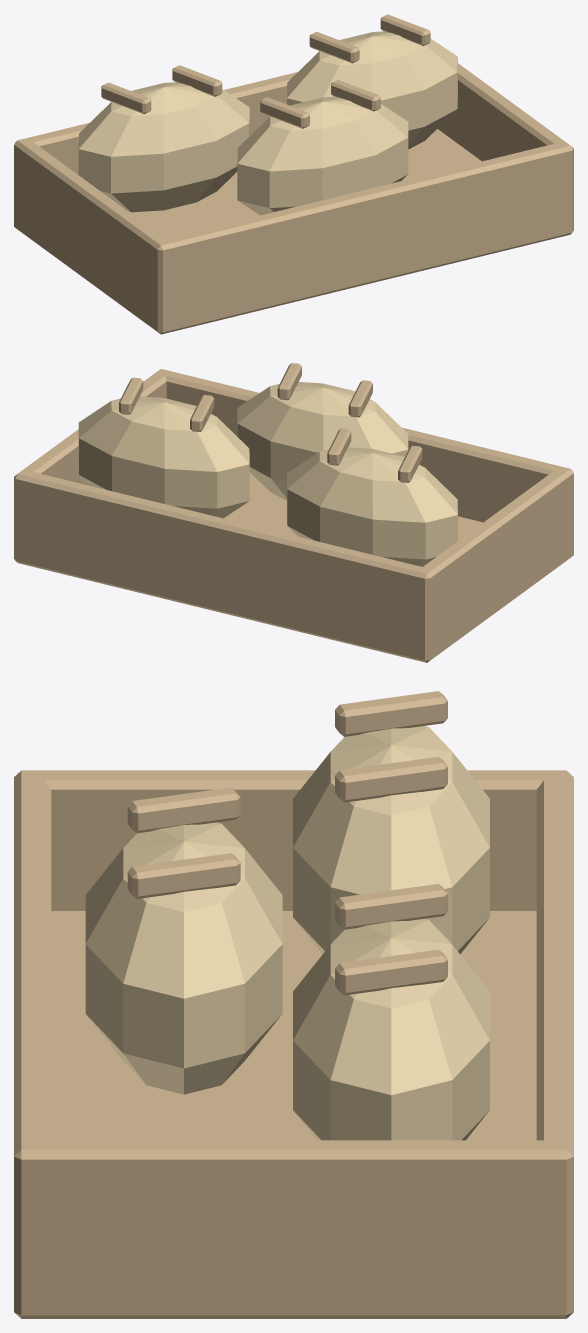
File: bread_display_basket.glb
3 views of the same model, one above another, from view 1: azimuth 30°, elevation 25°; view 2: azimuth 150°, elevation 25°; view 3: azimuth 270°, elevation 25° (orthographic). The views are drawn at different scales.
Visible parts, largest first — view 1: bread_loaf (×3), basket_wall (×2), basket_side (×2), basket_floor, loaf_score (×6); view 2: basket_wall (×2), bread_loaf (×3), basket_side (×2), basket_floor, loaf_score (×6); view 3: basket_side (×2), bread_loaf (×3), basket_floor, basket_wall (×2), loaf_score (×6).
Boxes of the visible parts, left/top/right/bottom form: bread_loaf (×3): left=78, top=31, right=457, bottom=215; basket_wall (×2): left=14, top=72, right=572, bottom=333; basket_side (×2): left=14, top=63, right=573, bottom=334; basket_floor: left=14, top=129, right=572, bottom=331; loaf_score (×6): left=101, top=14, right=430, bottom=128; basket_wall (×2): left=15, top=369, right=573, bottom=662; bread_loaf (×3): left=78, top=382, right=457, bottom=566; basket_side (×2): left=14, top=369, right=573, bottom=662; basket_floor: left=15, top=472, right=547, bottom=660; loaf_score (×6): left=119, top=363, right=422, bottom=482; basket_side (×2): left=14, top=770, right=573, bottom=1318; bread_loaf (×3): left=85, top=726, right=489, bottom=1140; basket_floor: left=22, top=911, right=565, bottom=1314; basket_wall (×2): left=14, top=770, right=573, bottom=1318; loaf_score (×6): left=127, top=691, right=447, bottom=995.
Size of the model in its own units: 0.44 by 0.158 by 0.27.
